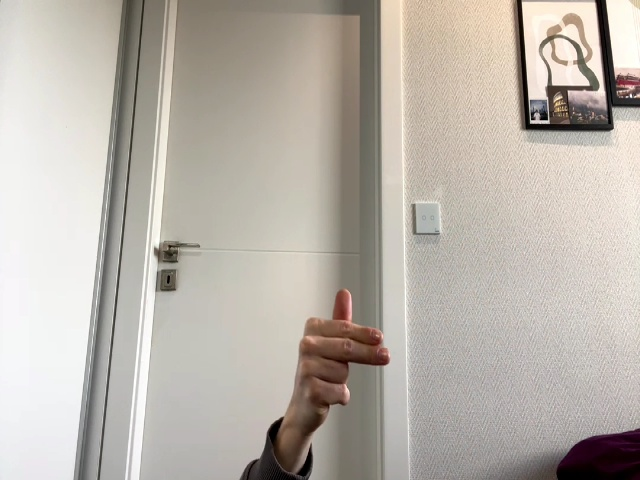N: (296, 289, 390, 415)
